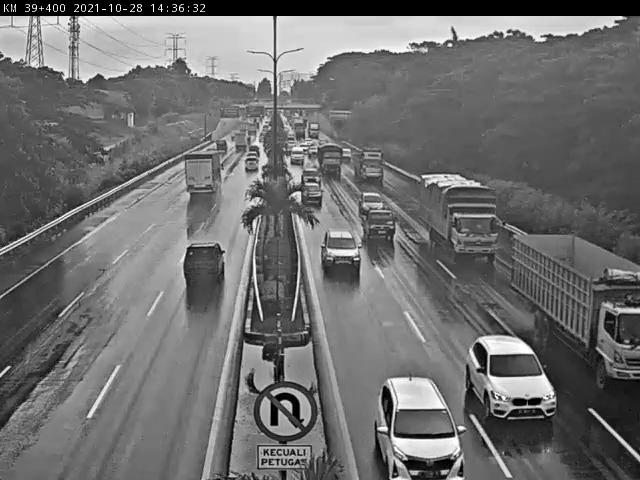big truck: (509, 234, 640, 379), (418, 173, 500, 263), (181, 150, 223, 193), (350, 145, 386, 184), (317, 144, 343, 177)
car: (374, 377, 466, 480), (464, 331, 560, 419), (319, 229, 362, 274), (184, 242, 227, 276), (361, 206, 396, 241), (359, 192, 383, 215), (300, 181, 322, 204), (300, 167, 320, 186), (243, 154, 260, 174)
